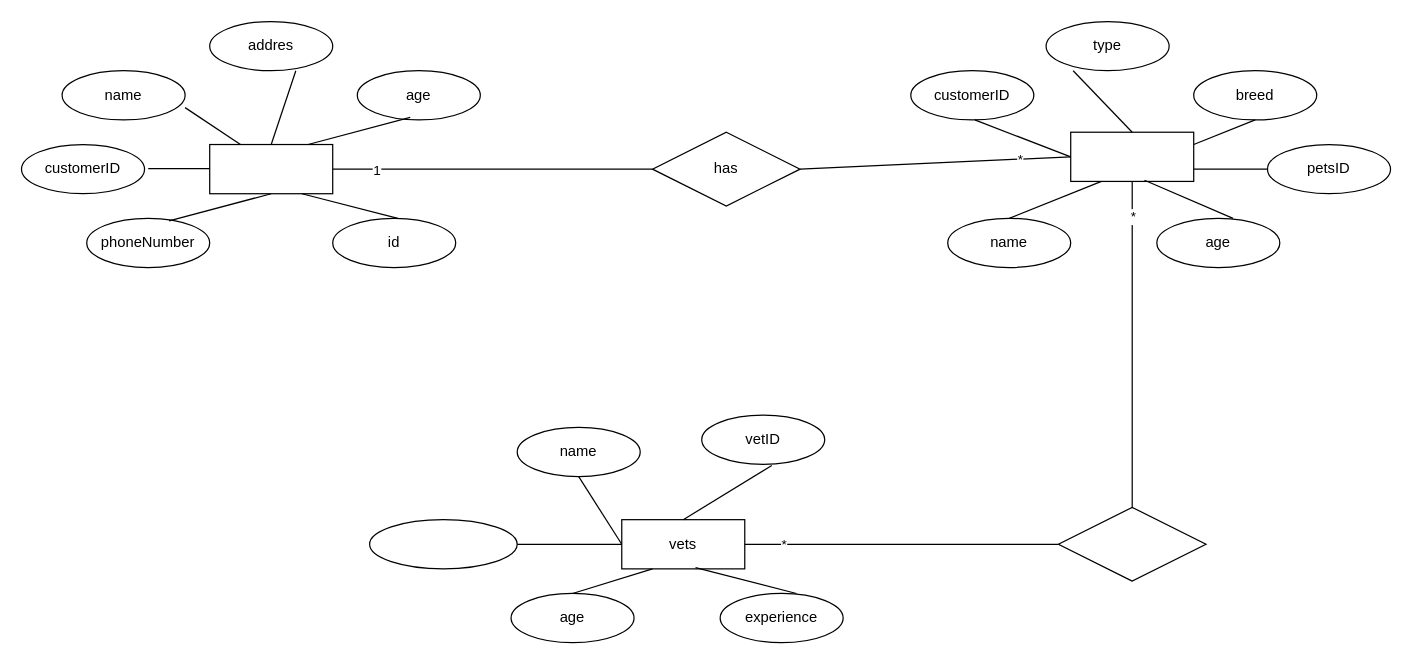
The diagram is 1412 pixels wide and 664 high, and some of its shapes have lost their labels. The centre of each missing label's shape, as x and y in pixels:
attends: (1131,543)
customers: (270,168)
pets: (1131,156)
professionalLicence: (442,543)
